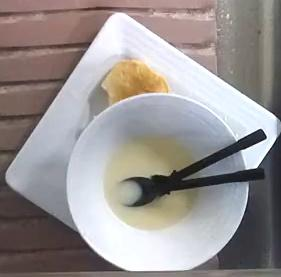soup: (103, 135, 196, 230)
